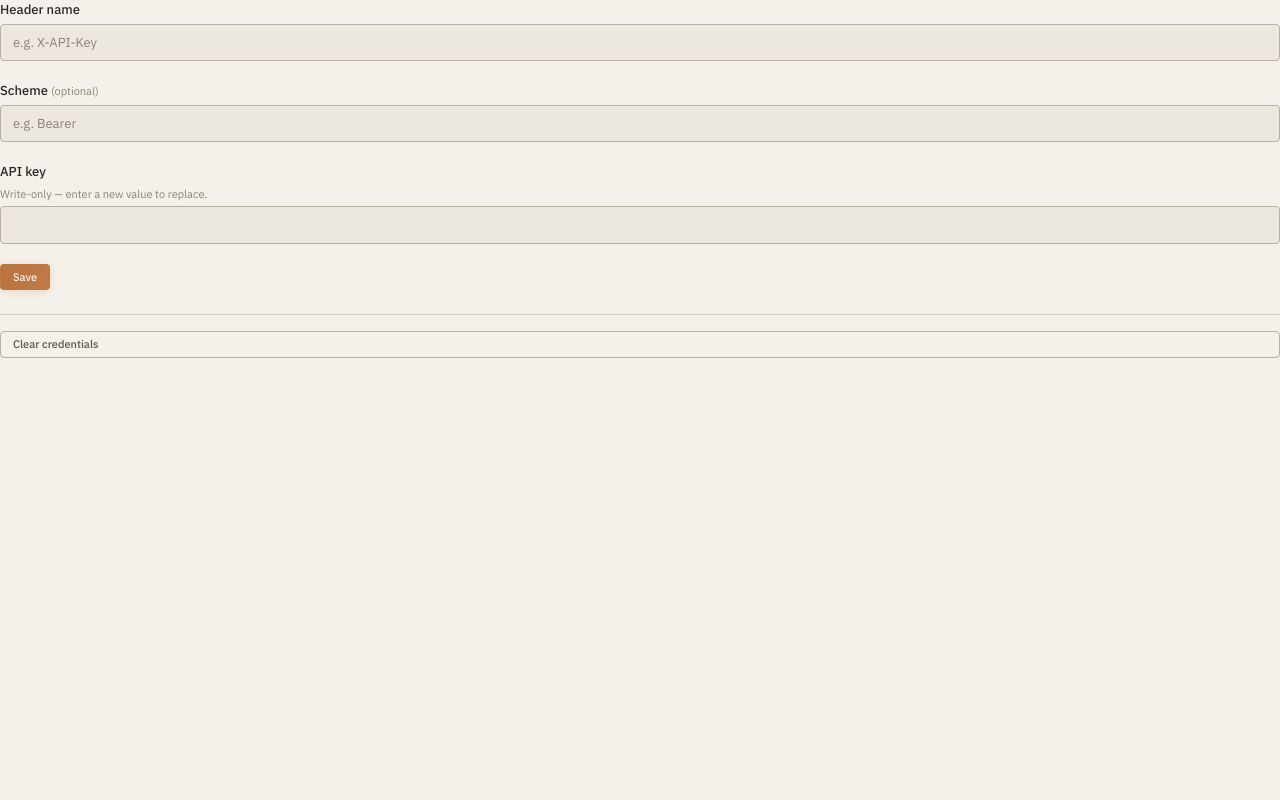
Test case: clear credentials › opens a confirmation modal without mutating on first click
The image size is (1280, 800).
Click the button "Clear credentials": (56, 344) [0,331,1279,358]
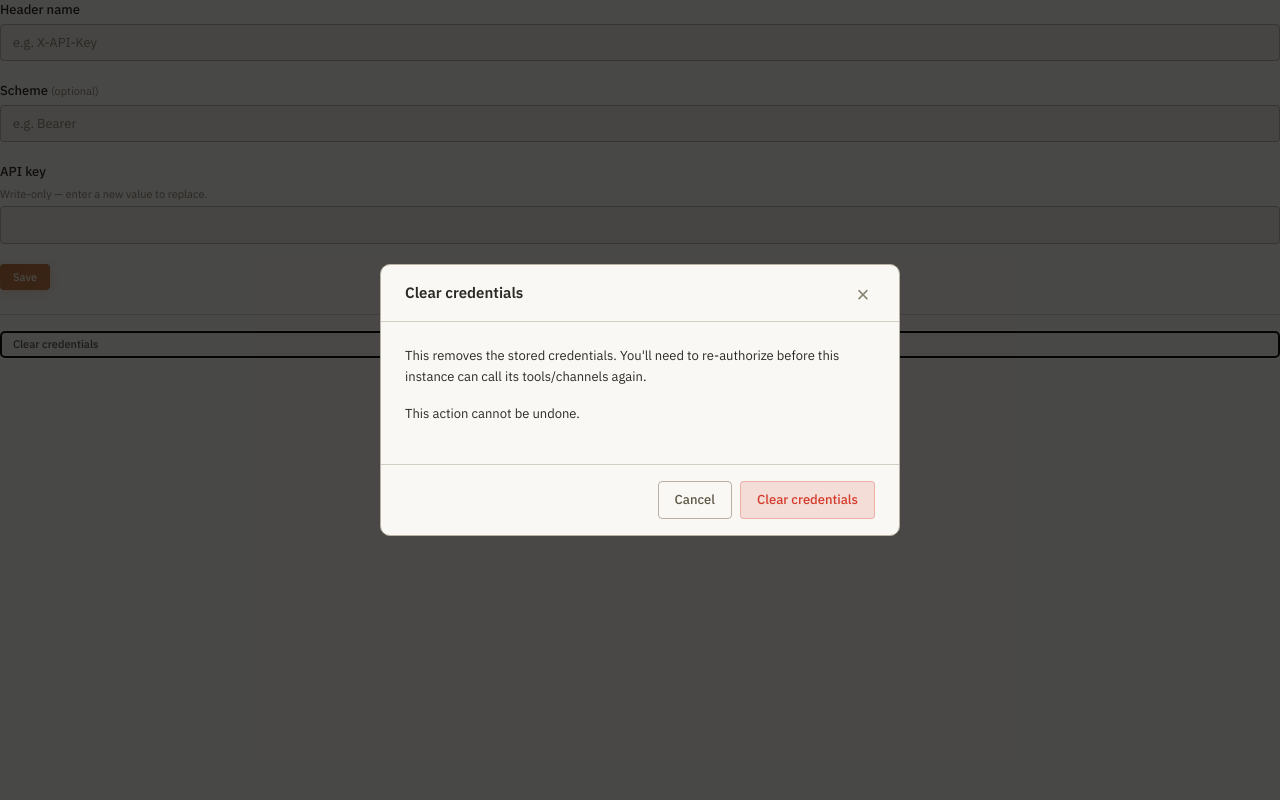
Expected: the text "You'll need to re-authorize" is shown, [405,347,839,385]
